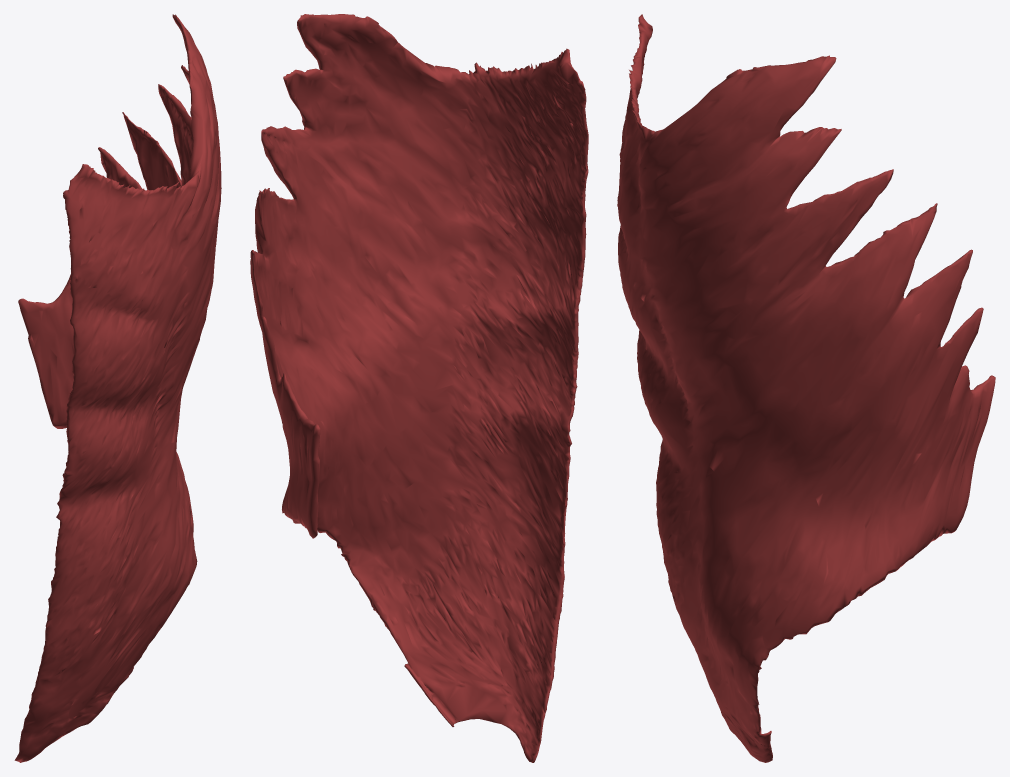
The model's file is external-abdominal-oblique-muscle-l.glb.
The picture shows the model from 3 angles, left to right: view 1: azimuth 30°, elevation 25°; view 2: azimuth 150°, elevation 25°; view 3: azimuth 270°, elevation 25°; orthographic projection. The views are drawn at different scales.
Parts seen in each view (by area): view 1: External abdominal oblique muscle.l; view 2: External abdominal oblique muscle.l; view 3: External abdominal oblique muscle.l.
Part boxes in pixels (left/top/right/bottom): External abdominal oblique muscle.l: left=14, top=14, right=221, bottom=762; External abdominal oblique muscle.l: left=250, top=14, right=588, bottom=762; External abdominal oblique muscle.l: left=617, top=14, right=995, bottom=762.
Bounding box in the file's own units: 0.1362 × 0.4188 × 0.18.
